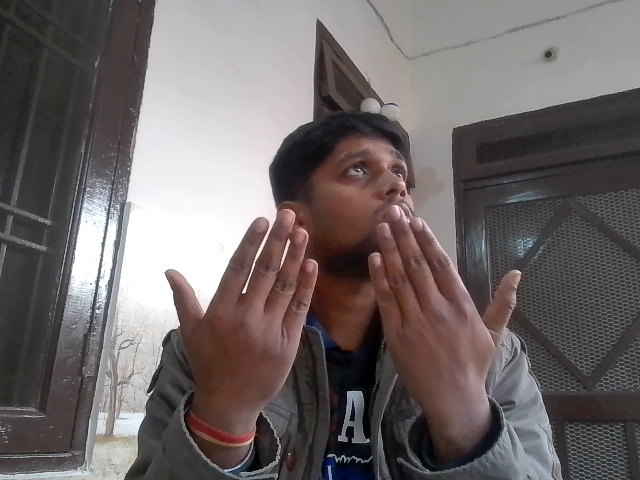ThankYou: (145, 194, 531, 429)
